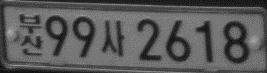1: (194, 19, 218, 62)
2: (137, 18, 161, 60)
6: (165, 19, 190, 62)
8: (223, 20, 249, 62)
9: (72, 15, 95, 58), (45, 14, 68, 56)
부산_V: (19, 13, 44, 55)
사: (101, 20, 124, 56)
